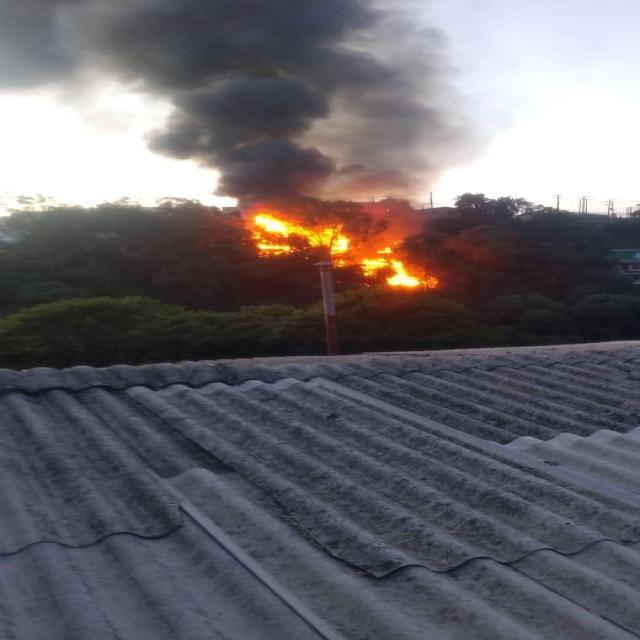Fire: (242, 203, 356, 260), (350, 258, 440, 290), (357, 204, 410, 257)
Smoke: (218, 10, 454, 204), (0, 0, 401, 96), (146, 94, 239, 163)
